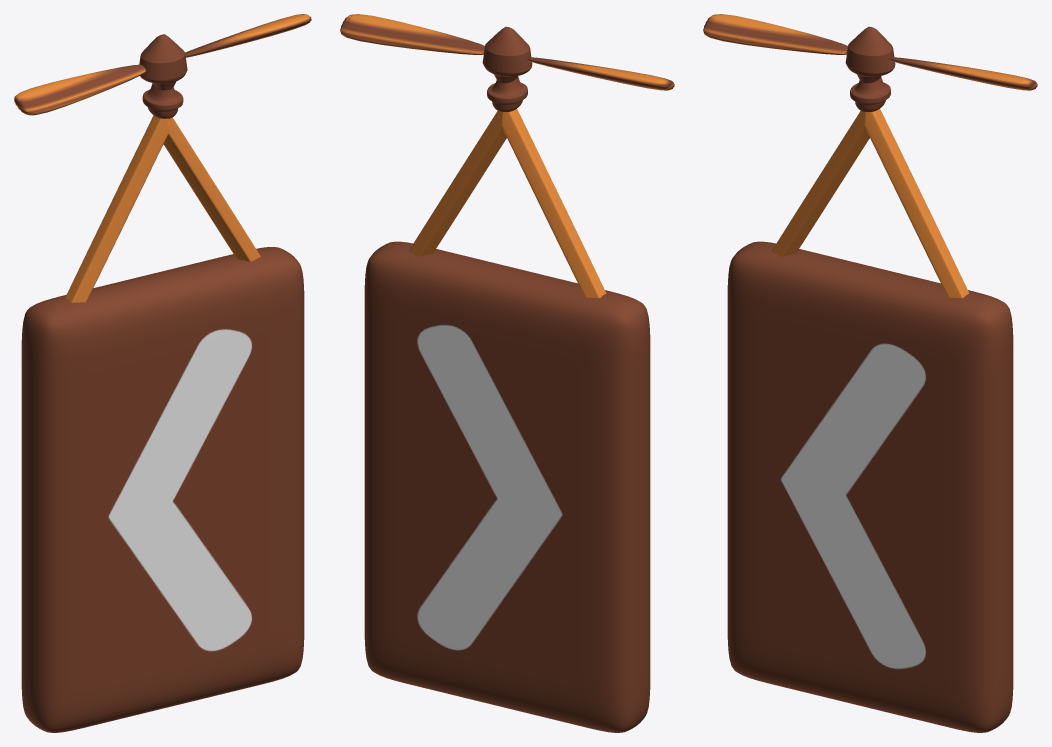
The model's file is directional_arrow.fbx.
3 views of the same model, side by side, from view 1: azimuth 30°, elevation 25°; view 2: azimuth 150°, elevation 25°; view 3: azimuth 330°, elevation 25° (orthographic).
Parts seen in each view (by area): view 1: directional_arrow_table, directional_arrow_wing; view 2: directional_arrow_table, directional_arrow_wing; view 3: directional_arrow_table, directional_arrow_wing.
Boxes of the visible parts, bbox=[...] form: directional_arrow_table: bbox=[21, 34, 304, 732]; directional_arrow_wing: bbox=[14, 14, 311, 115]; directional_arrow_table: bbox=[364, 26, 650, 732]; directional_arrow_wing: bbox=[340, 14, 674, 90]; directional_arrow_table: bbox=[727, 26, 1013, 732]; directional_arrow_wing: bbox=[703, 14, 1037, 90].
Bounding box in the file's own units: 10.53 × 21.87 × 2.03.
1 material, 1 textured.
